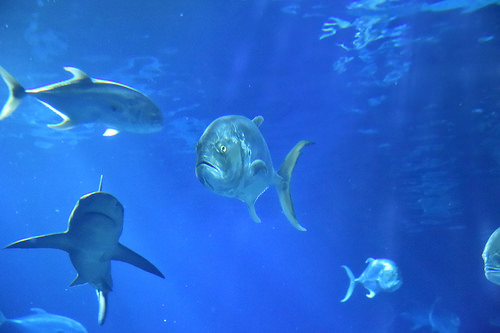shark: (7, 158, 172, 327)
